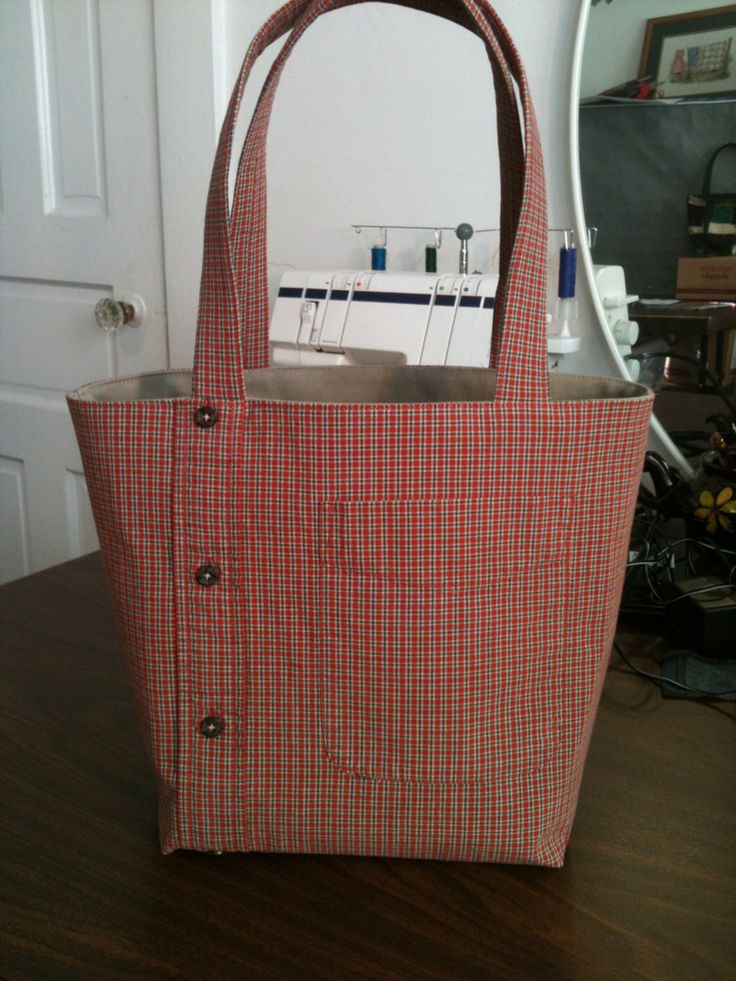nylon: (63, 2, 654, 868)
